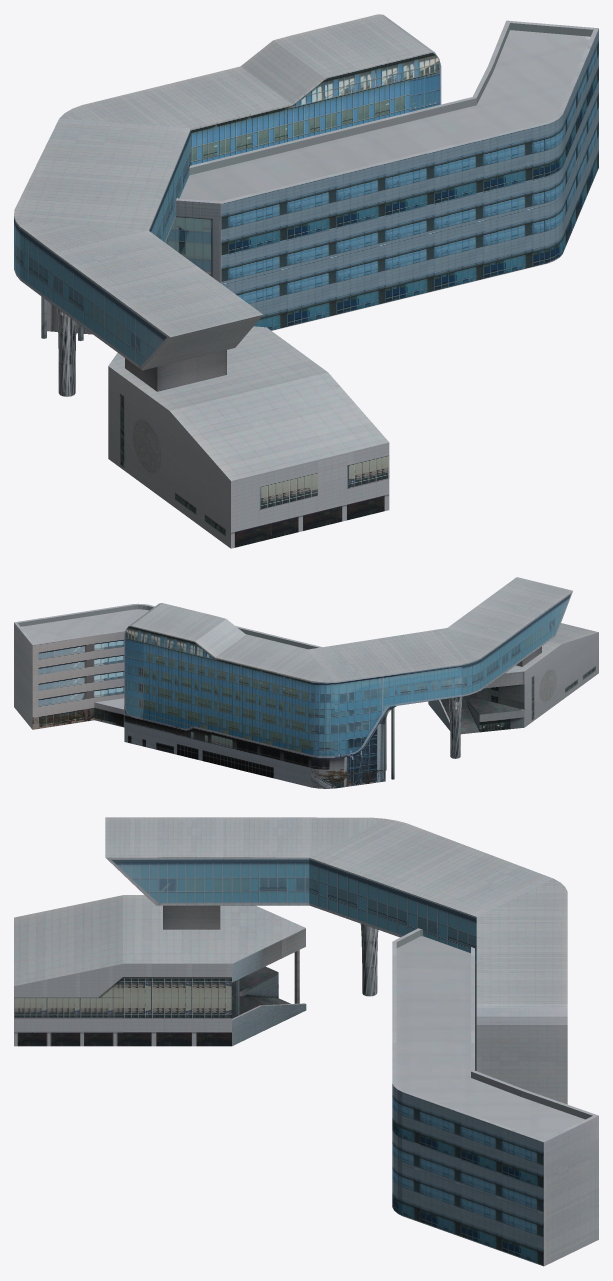
3 views of the same model, one above another, from view 1: azimuth 30°, elevation 25°; view 2: azimuth 150°, elevation 25°; view 3: azimuth 270°, elevation 25° (orthographic). The views are drawn at different scales.
Parts seen in each view (by area): view 1: MainBuilding; view 2: MainBuilding; view 3: MainBuilding.
Boxes of the visible parts, x1,y1,x2,y2 form: MainBuilding: [14, 14, 598, 548]; MainBuilding: [14, 577, 598, 788]; MainBuilding: [14, 817, 598, 1266].
Bounding box in the file's own units: 1.17 × 0.3224 × 0.9891.
1 material, 1 textured.
